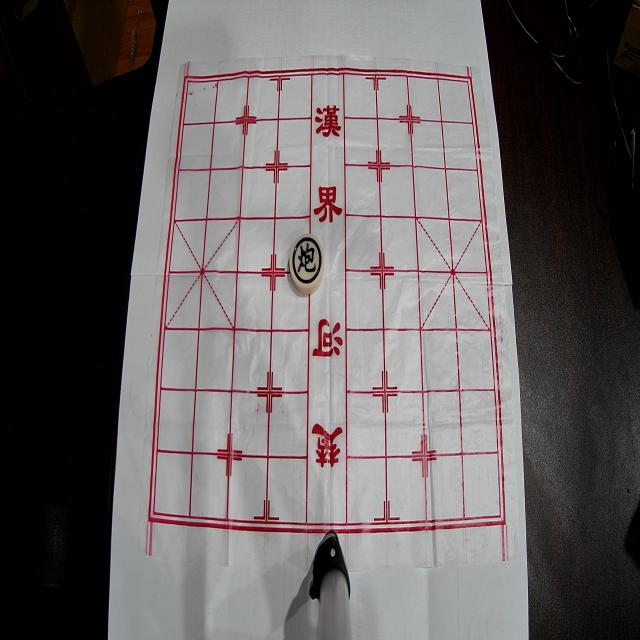black-cannon: (290, 234, 324, 294)
